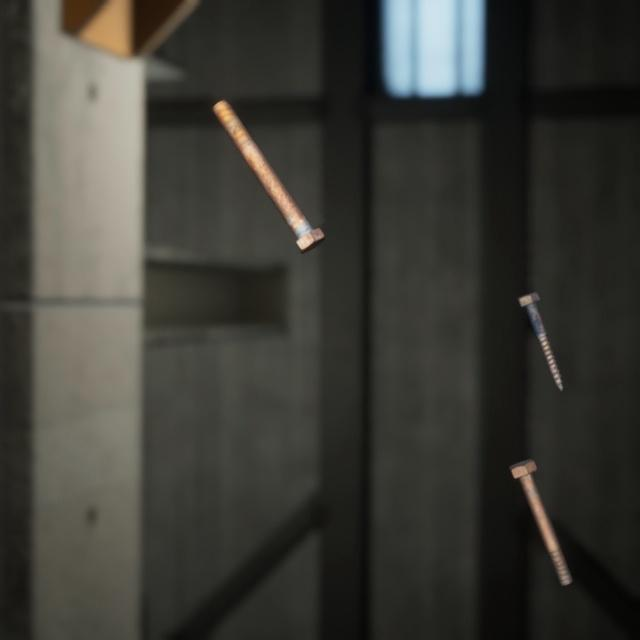bolt: (208, 81, 329, 243), (503, 432, 577, 568), (511, 269, 568, 377)
